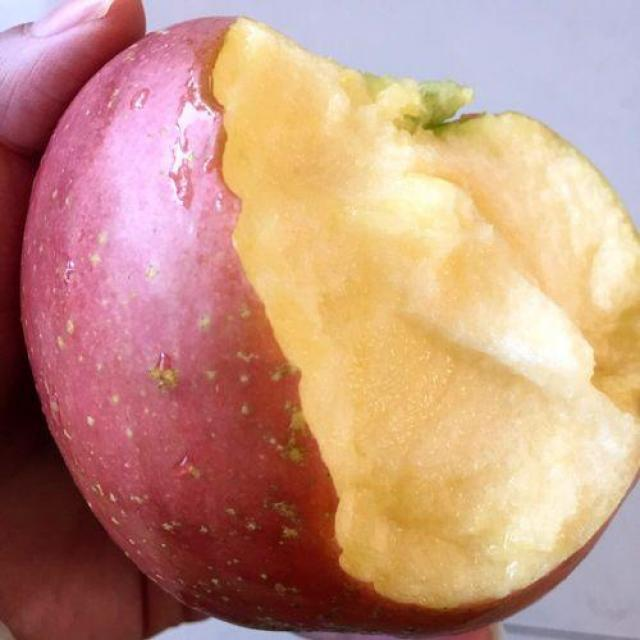Apple: (13, 3, 640, 640)
